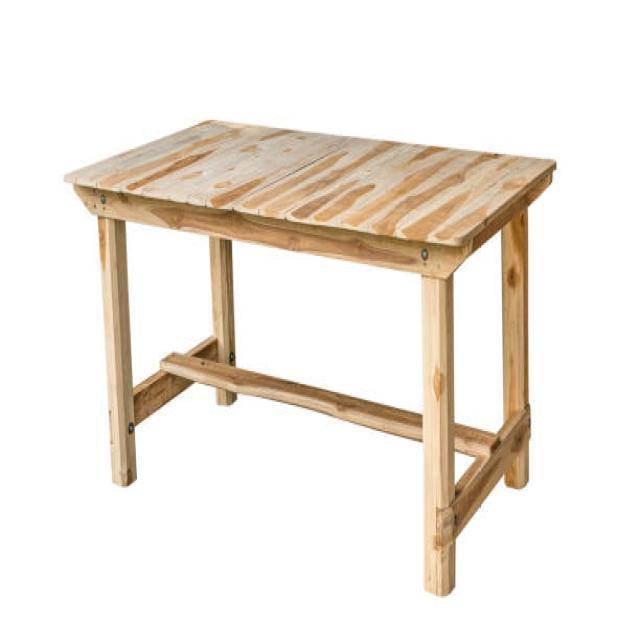table: (62, 116, 556, 596)
